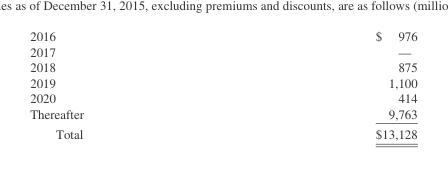table: (29, 28, 416, 141)
table column: (29, 28, 228, 141), (228, 28, 416, 141)
table row: (29, 105, 416, 123), (29, 123, 416, 141), (29, 43, 416, 59), (29, 74, 416, 90), (29, 28, 416, 43), (29, 59, 416, 74), (29, 90, 416, 105)
